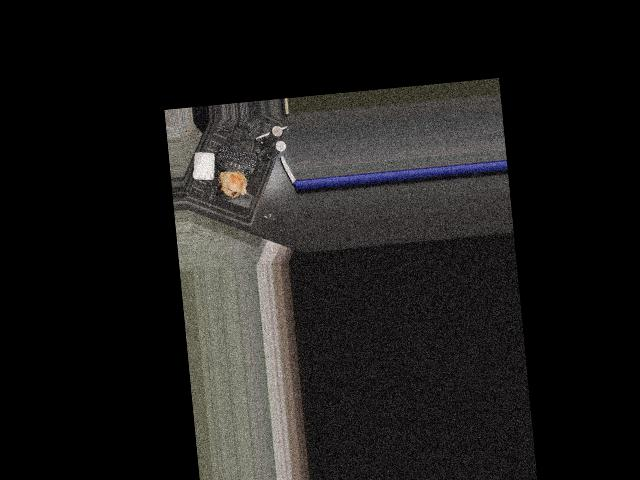onion: (217, 166, 249, 198)
